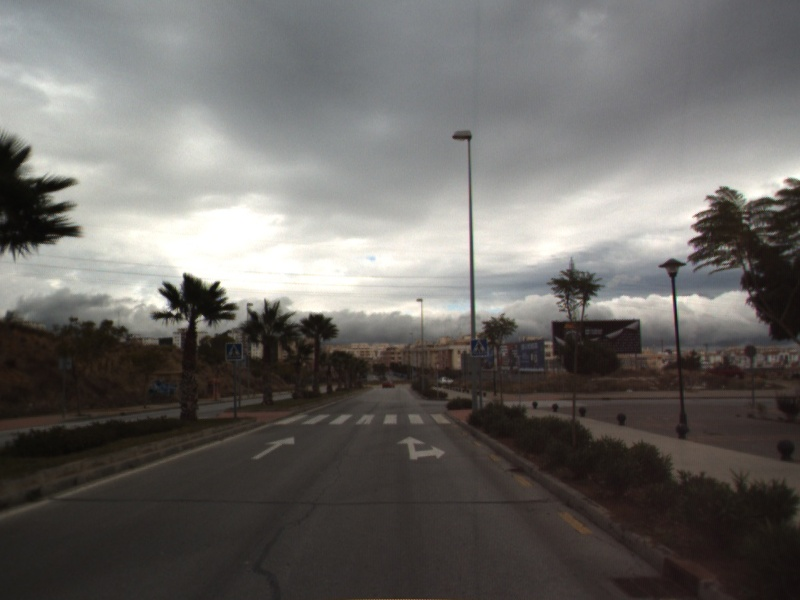STRAIGHT: (249, 435, 297, 461)
STRAIGHT_RIGHT: (395, 434, 447, 461)
